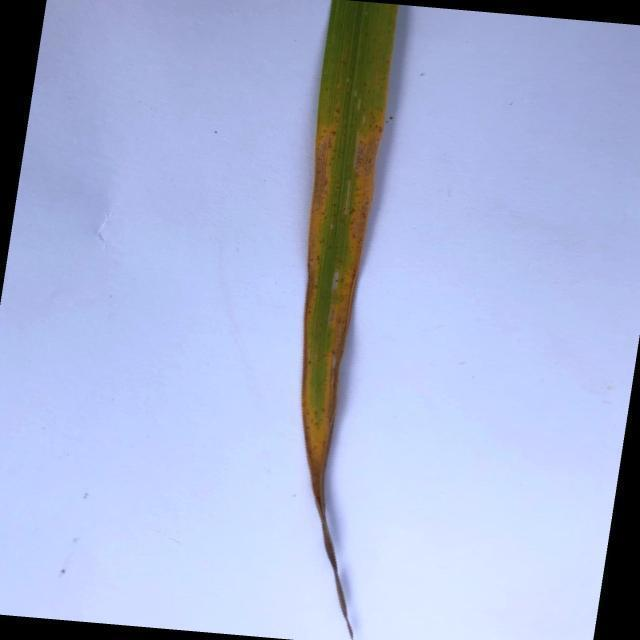Rice Tungro: (290, 102, 387, 520)
